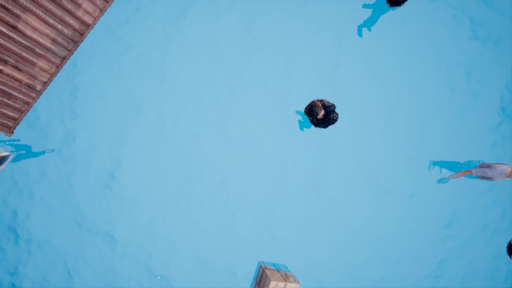person: (429, 155, 512, 189), (297, 93, 340, 139)
